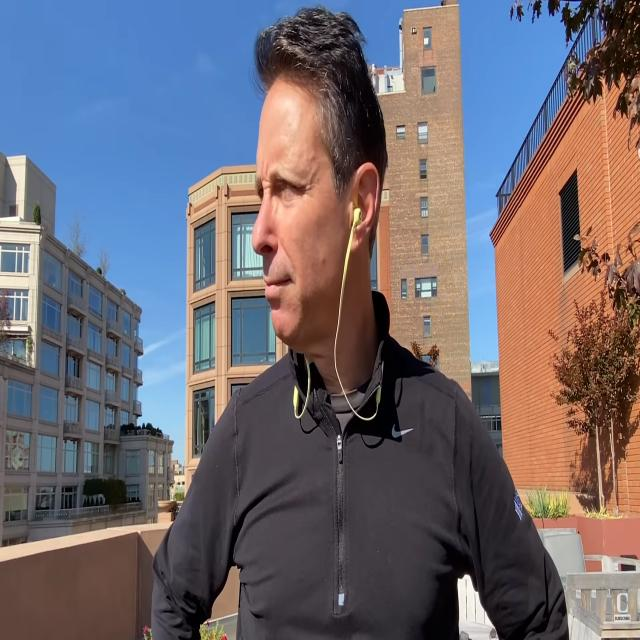Neckband: (292, 207, 384, 421)
